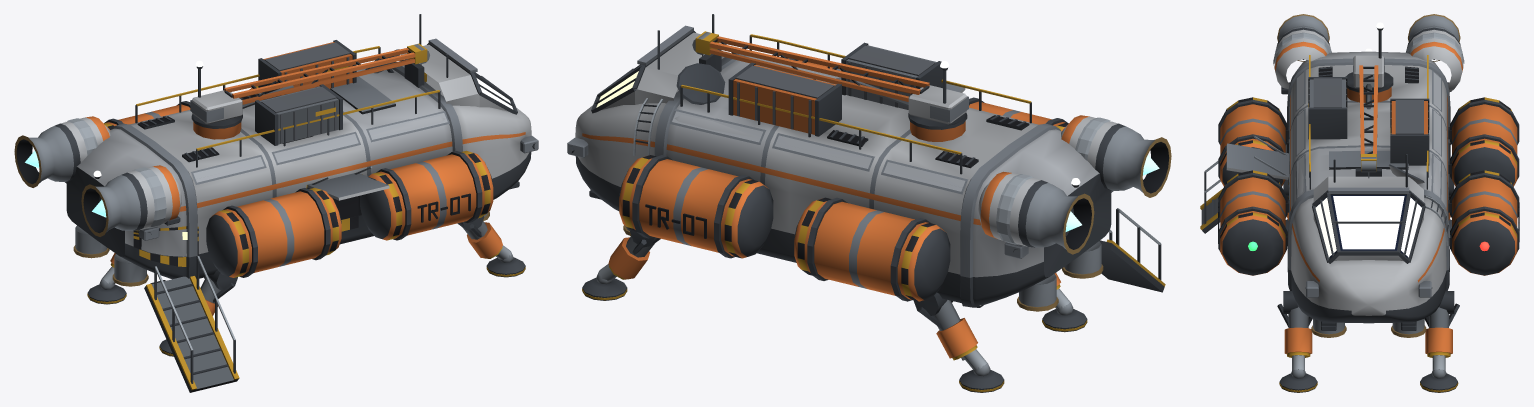
Rendered from ship_trader.glb.
The picture shows the model from 3 angles, left to right: view 1: azimuth 30°, elevation 25°; view 2: azimuth 150°, elevation 25°; view 3: azimuth 270°, elevation 25°; orthographic projection. The views are drawn at different scales.
Parts seen in each view (by area): view 1: Hull, Ramp, Leg_FR, Door_Side, Leg_RR, Leg_RL; view 2: Hull, Leg_RL, Leg_FL, Ramp, Leg_RR; view 3: Hull, Lights, Leg_FR, Leg_FL, Door_Side, Ramp.
Part boxes in pixels (bbox=[...]): Hull: bbox=[14, 14, 538, 286]; Ramp: bbox=[144, 256, 239, 392]; Leg_FR: bbox=[457, 216, 525, 277]; Door_Side: bbox=[307, 166, 389, 200]; Leg_RR: bbox=[159, 270, 237, 356]; Leg_RL: bbox=[87, 253, 126, 304]; Hull: bbox=[567, 14, 1171, 311]; Leg_RL: bbox=[913, 292, 1004, 392]; Leg_FL: bbox=[582, 230, 660, 300]; Ramp: bbox=[1099, 208, 1165, 292]; Leg_RR: bbox=[1042, 273, 1087, 332]; Hull: bbox=[1218, 14, 1519, 337]; Lights: bbox=[1248, 22, 1489, 257]; Leg_FR: bbox=[1277, 291, 1317, 392]; Leg_FL: bbox=[1420, 291, 1459, 392]; Door_Side: bbox=[1226, 136, 1288, 179]; Ramp: bbox=[1200, 144, 1286, 233].
Size of the model in its own units: 13.83 by 6.87 by 8.42.
